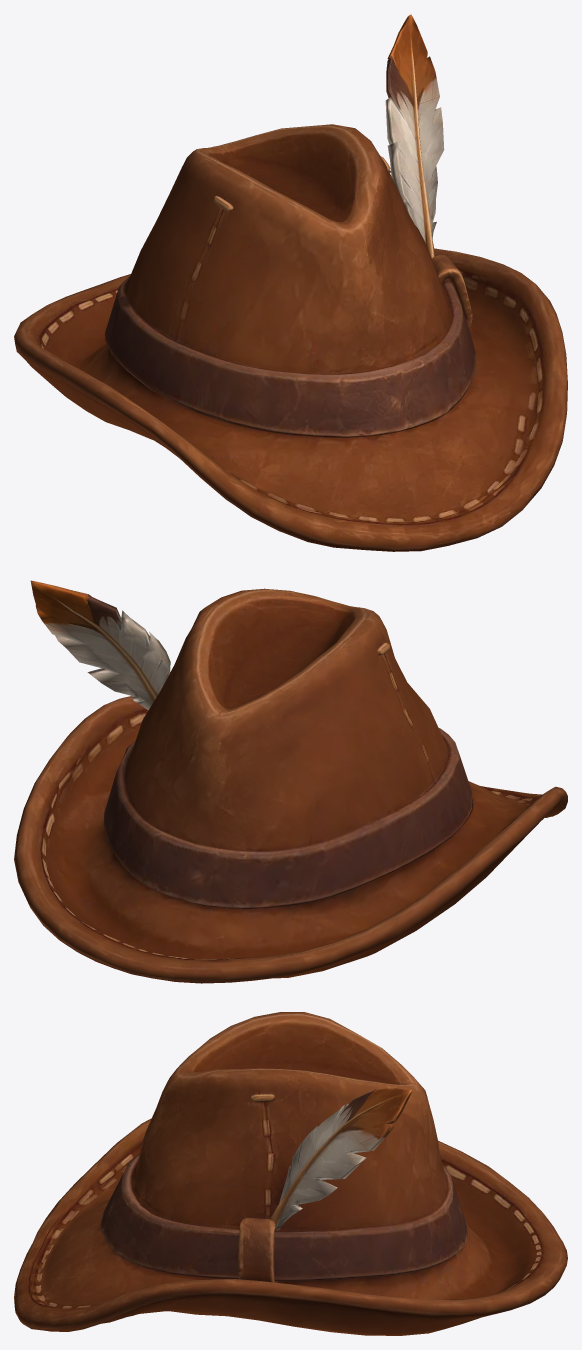
The model's file is hat_apprenti.glb.
3 views of the same model, one above another, from view 1: azimuth 30°, elevation 25°; view 2: azimuth 150°, elevation 25°; view 3: azimuth 270°, elevation 25° (orthographic). The views are drawn at different scales.
Size of the model in its own units: 0.7925 by 0.5615 by 0.9561.
1 material, 1 textured.
